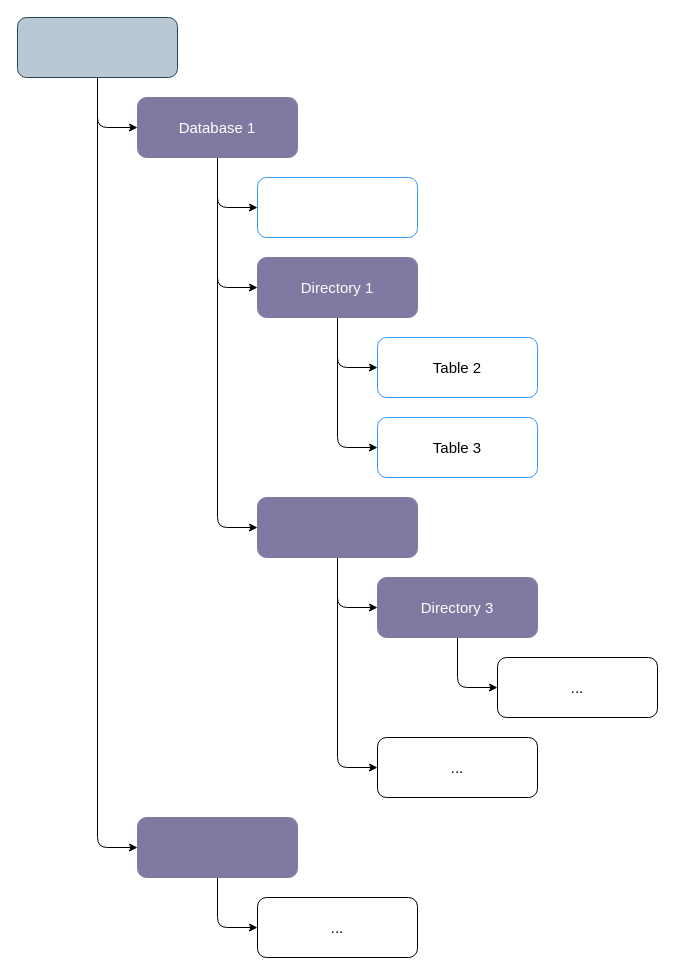
Image size: 675x975. Some labels were removed from this diagram. Each missing label, with the centre of its shape:
"Cluster scheme root" goes at (x=97, y=47).
"Database 2" goes at (x=217, y=847).
"Directory 2" goes at (x=337, y=527).
"Table 1" goes at (x=337, y=207).
